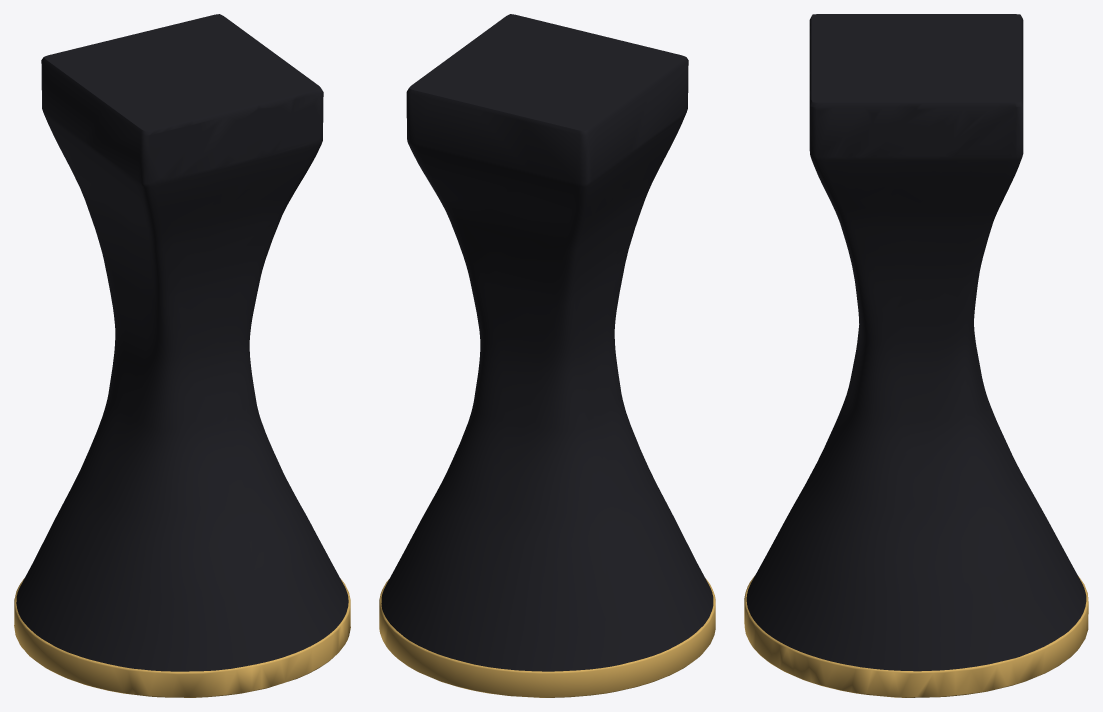
File: rook-black.glb
3 views of the same model, side by side, from view 1: azimuth 30°, elevation 25°; view 2: azimuth 150°, elevation 25°; view 3: azimuth 270°, elevation 25° (orthographic). The views are drawn at different scales.
Visible parts, largest first — view 1: 02_vez_telo_0, 02_vez_podstavec; view 2: 02_vez_telo_0, 02_vez_podstavec; view 3: 02_vez_telo_0, 02_vez_podstavec.
Boxes of the visible parts, x1,y1,x2,y2 form: 02_vez_telo_0: [16, 14, 348, 671]; 02_vez_podstavec: [14, 578, 350, 697]; 02_vez_telo_0: [381, 14, 713, 671]; 02_vez_podstavec: [379, 578, 715, 697]; 02_vez_telo_0: [746, 14, 1086, 671]; 02_vez_podstavec: [744, 576, 1088, 697].
Size of the model in its own units: 0.7258 by 1.32 by 0.7255.
